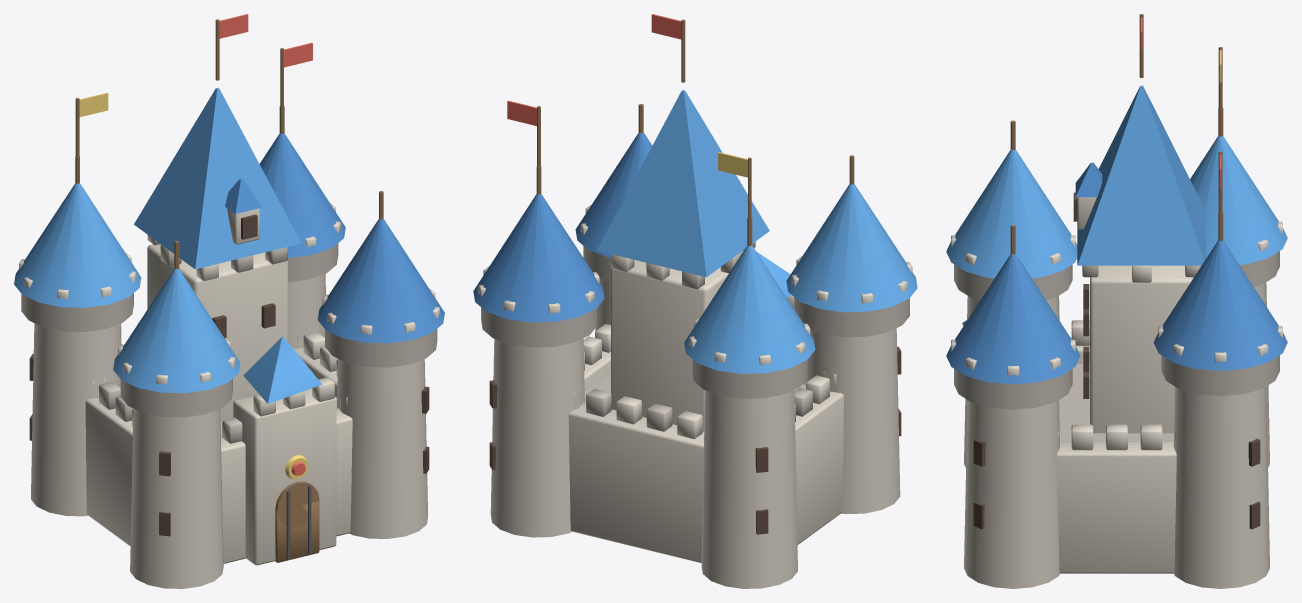
The model's file is castle-BLc08a-M.glb.
3 views of the same model, side by side, from view 1: azimuth 30°, elevation 25°; view 2: azimuth 150°, elevation 25°; view 3: azimuth 270°, elevation 25° (orthographic). The views are drawn at different scales.
Parts seen in each view (by area): view 1: object 1, object 19, Cone, Cone.004, Cone.008, Cone.006, Cone.010, Cone.002, Cone.014, Cone.001, Cone.005, Cone.009 (+3 smaller); view 2: object 1, object 19, Cone.008, Cone.012, Cone, Cone.010, Cone.002, Cone.014, Cone.006, Cone.009, Cone.013, Cone.001 (+2 smaller); view 3: object 1, Cone.012, Cone.004, object 19, Cone.006, Cone.014, Cone.002, Cone.010, Cone.005, Cone.013, object 14, Cone.001 (+2 smaller).
Part boxes in pixels (x1,y1,x2,y2): object 1: (19, 203, 439, 565); object 19: (79, 14, 321, 562); Cone: (130, 408, 223, 588); Cone.004: (337, 359, 427, 538); Cone.008: (31, 323, 121, 516); Cone.006: (317, 218, 444, 343); Cone.010: (14, 183, 141, 307); Cone.002: (113, 268, 240, 393); Cone.014: (259, 133, 345, 257); Cone.001: (120, 379, 232, 417); Cone.005: (325, 329, 437, 367); Cone.009: (21, 293, 133, 331); object 1: (478, 204, 912, 562); object 19: (507, 14, 791, 297); Cone.008: (701, 390, 797, 588); Cone.012: (490, 338, 584, 537); Cone: (806, 328, 900, 513); Cone.010: (684, 245, 815, 373); Cone.002: (786, 183, 917, 312); Cone.014: (473, 194, 604, 322); Cone.006: (575, 132, 652, 257); Cone.009: (692, 359, 807, 398); Cone.013: (481, 307, 596, 347); Cone.001: (794, 297, 909, 337); object 1: (951, 197, 1282, 573); Cone.012: (1173, 387, 1269, 588); Cone.004: (964, 400, 1059, 588); object 19: (962, 17, 1221, 325); Cone.006: (946, 253, 1080, 384); Cone.014: (1153, 240, 1287, 370); Cone.002: (946, 149, 1077, 278); Cone.010: (1190, 136, 1287, 264); Cone.005: (954, 369, 1072, 409); Cone.013: (1161, 355, 1279, 396); object 14: (973, 192, 1260, 529); Cone.001: (954, 264, 1072, 300).
Size of the model in its own units: 3.86 by 5.6 by 3.46.
